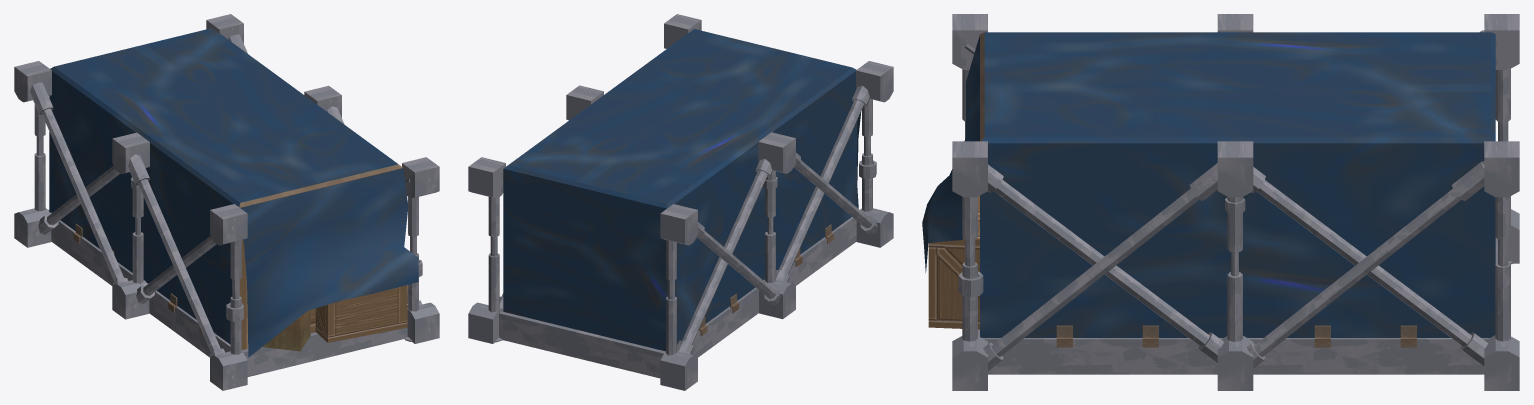
File: Container.fbx
3 renders of one model, left to right at view 1: azimuth 30°, elevation 25°; view 2: azimuth 150°, elevation 25°; view 3: azimuth 270°, elevation 25°, orthographic. The views are drawn at different scales.
Parts seen in each view (by area): view 1: Container; view 2: Container; view 3: Container.
Part boxes in pixels (left/top/right/bottom): Container: left=14, top=14, right=439, bottom=390; Container: left=468, top=14, right=893, bottom=390; Container: left=922, top=14, right=1519, bottom=390.
Bounding box in the file's own units: 791 × 602 × 1390.
